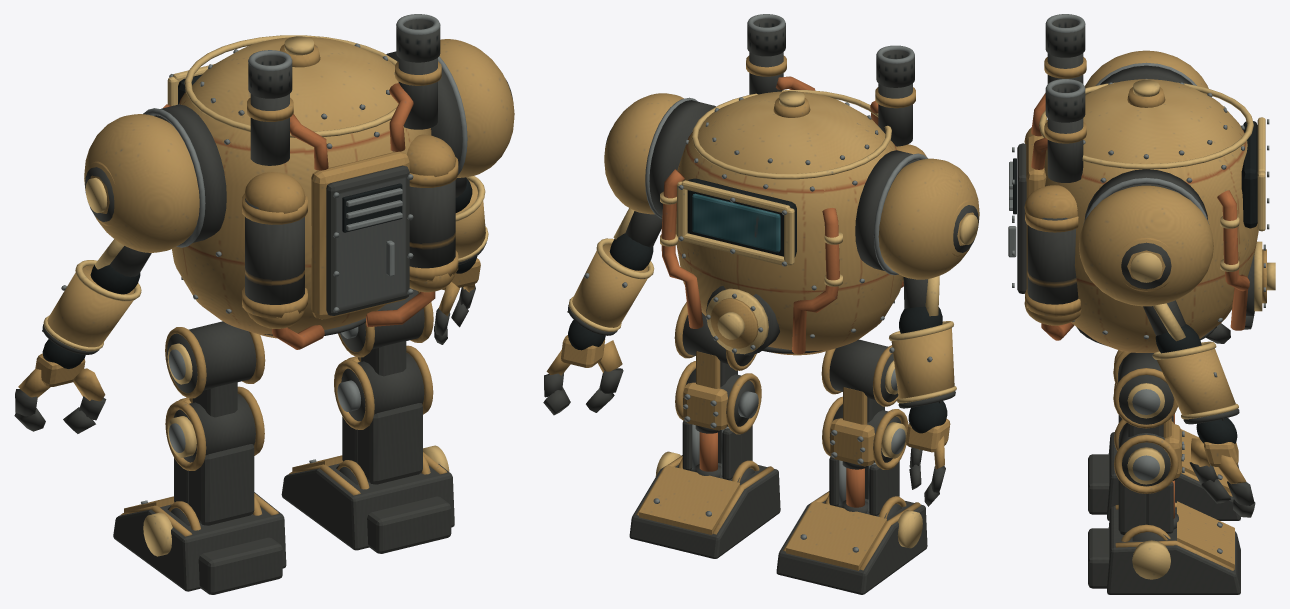
3 renders of one model, left to right at view 1: azimuth 30°, elevation 25°; view 2: azimuth 150°, elevation 25°; view 3: azimuth 270°, elevation 25°, orthographic. The views are drawn at different scales.
Bounding box in the file's own units: 3.59 × 4.03 × 2.02.
1 material, 1 textured.
